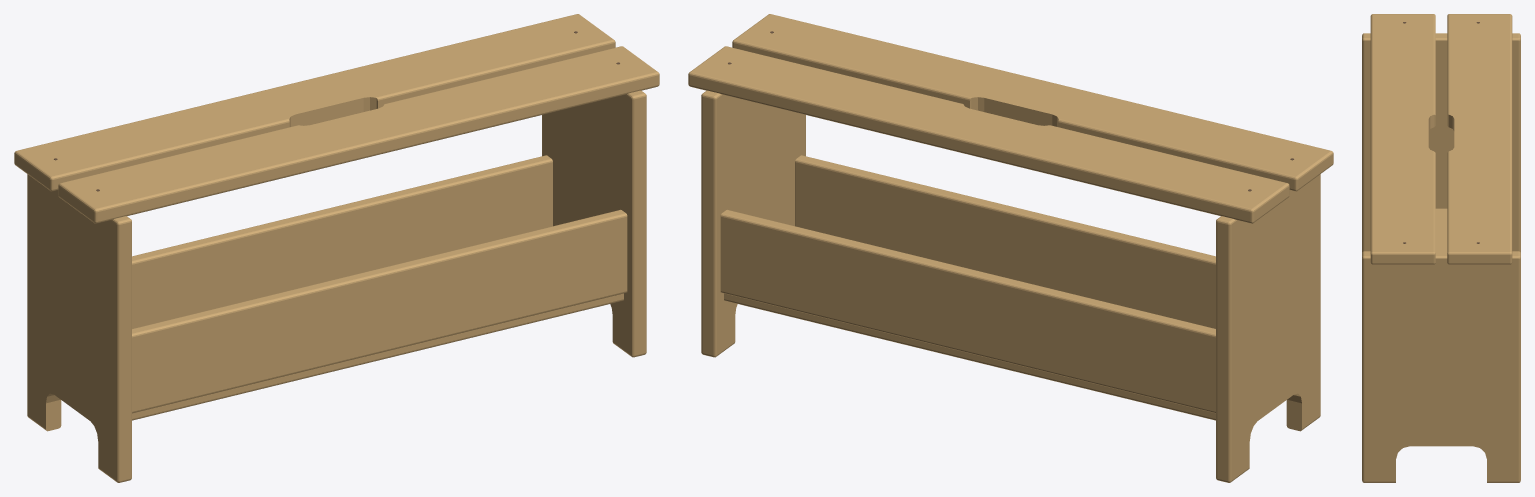
Rendered from perjohan.glb.
The picture shows the model from 3 angles, left to right: view 1: azimuth 30°, elevation 25°; view 2: azimuth 150°, elevation 25°; view 3: azimuth 270°, elevation 25°; orthographic projection. The views are drawn at different scales.
Visible parts, largest first — view 1: perjohan; view 2: perjohan; view 3: perjohan.
Part boxes in pixels (<box>): perjohan: <box>14,14,659,482</box>; perjohan: <box>688,14,1333,482</box>; perjohan: <box>1362,14,1520,482</box>.
Size of the model in its own units: 1 by 0.4648 by 0.28.
